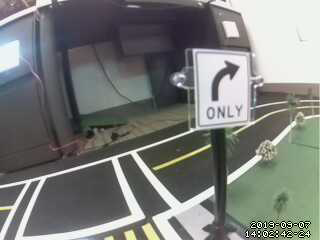Right_only_sign: (192, 49, 251, 118)
